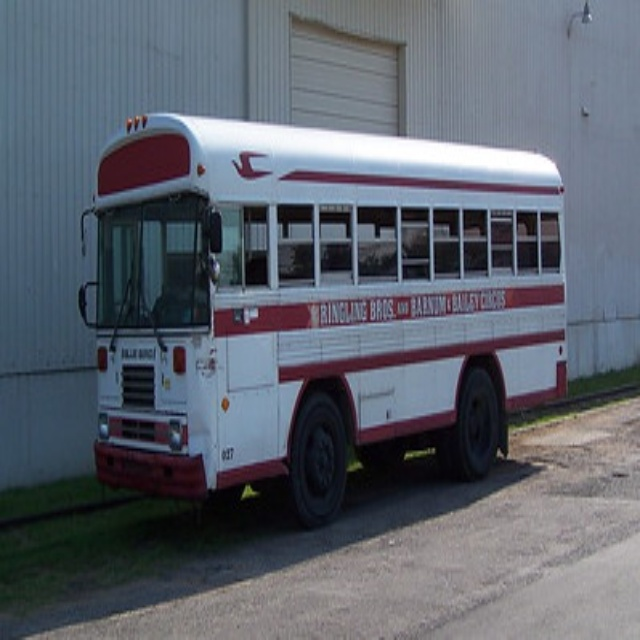Bus: (77, 111, 568, 529)
